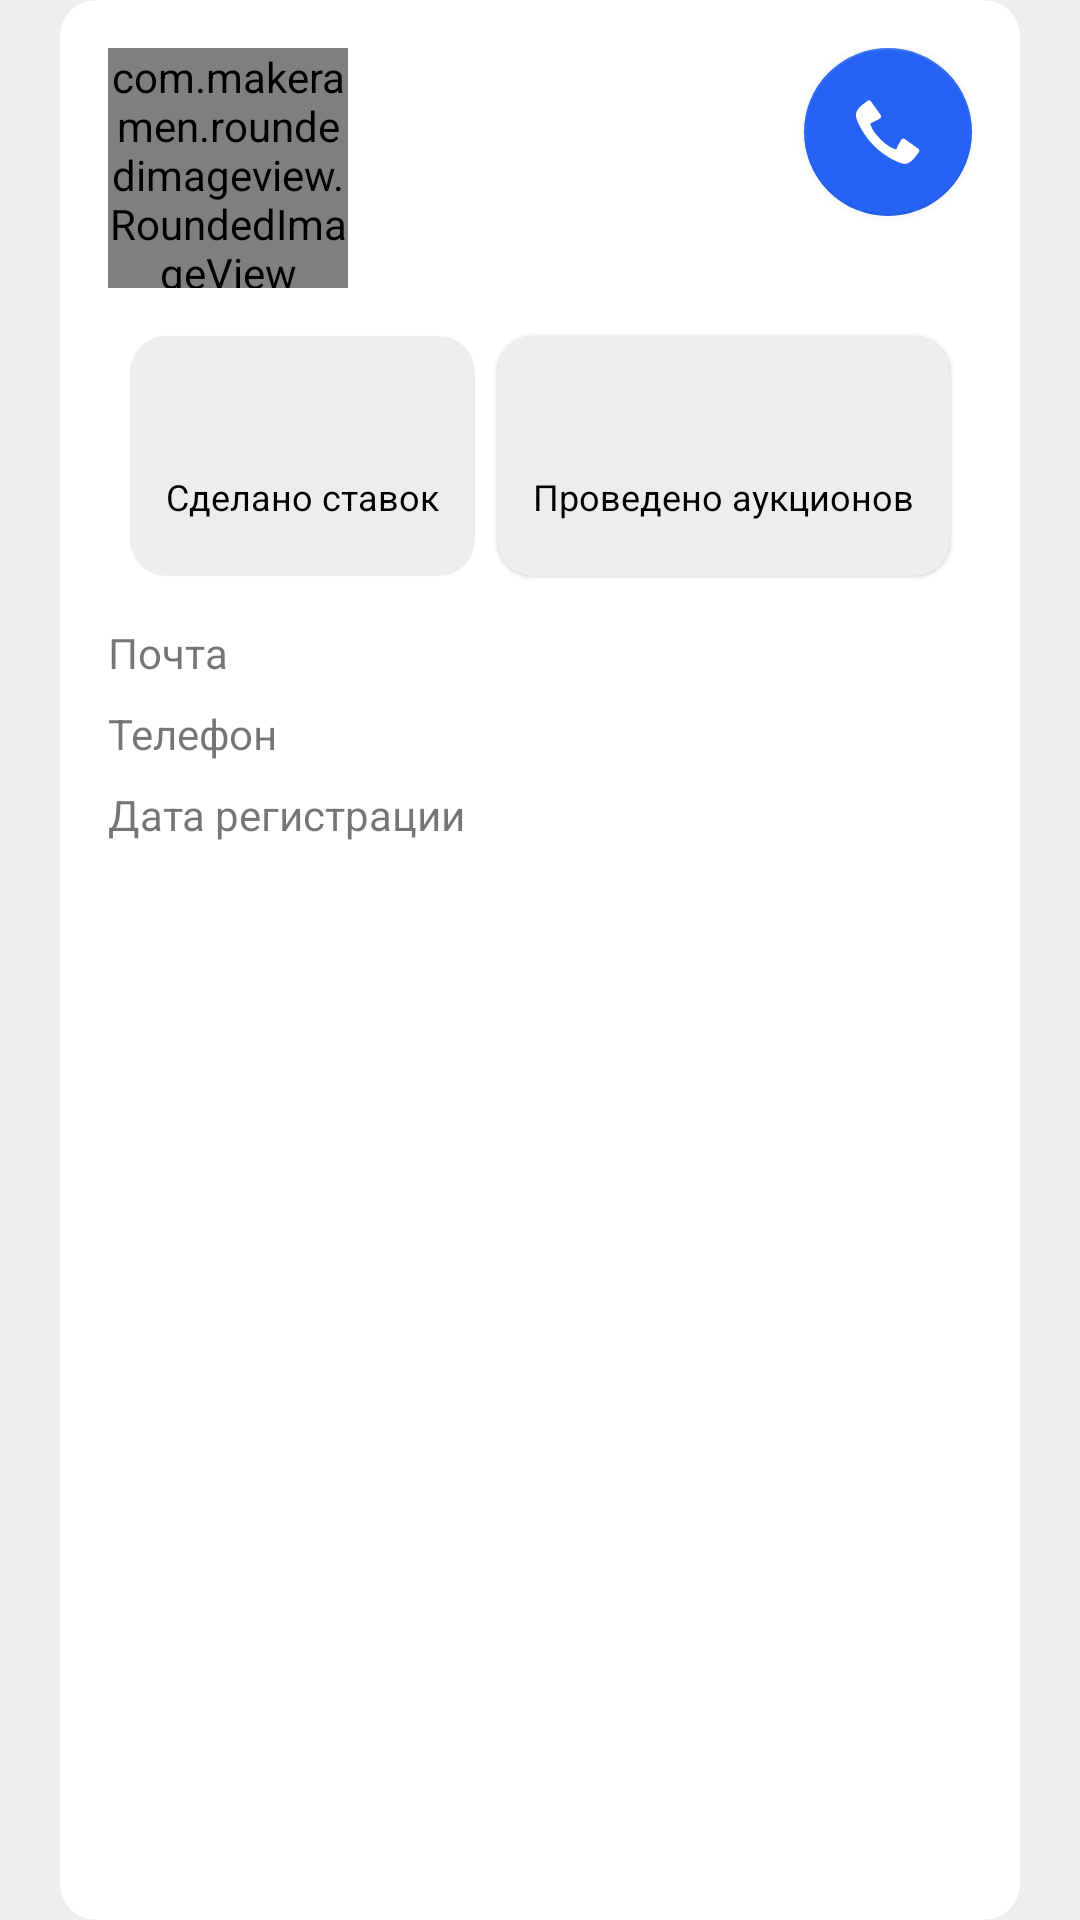

Where to tap for icons on this 1080 x 1920 app screen, as point (x, y):
phone call: point (888, 132)
